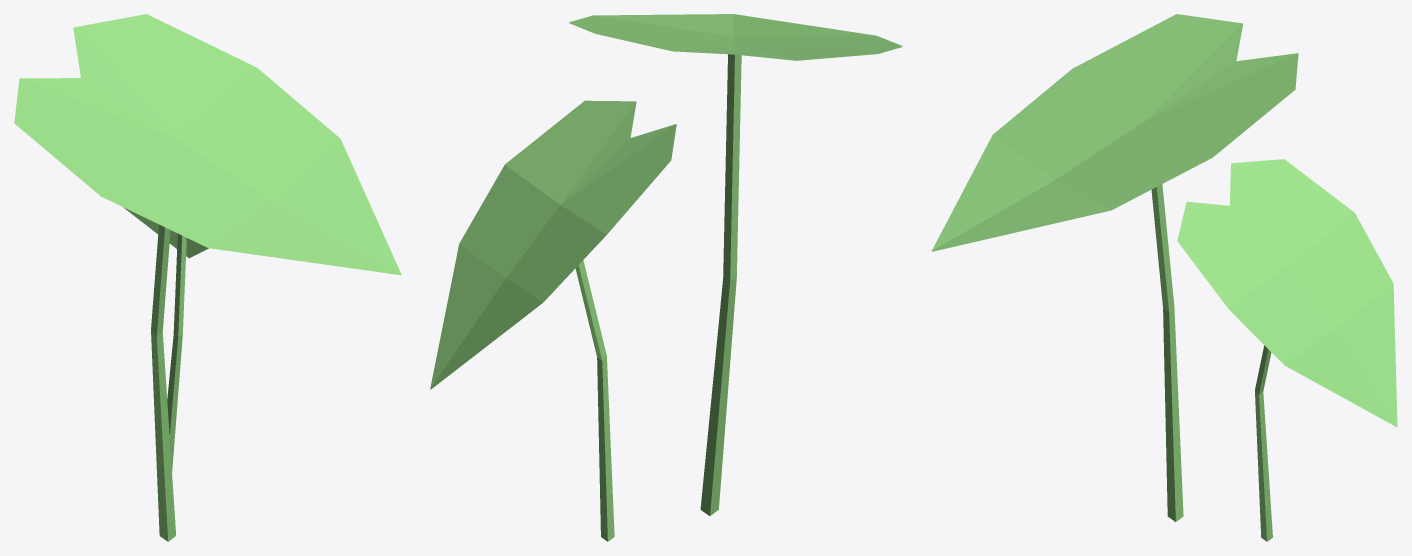
The model's file is Plant_d_TwoS_06.fbx.
3 views of the same model, side by side, from view 1: azimuth 30°, elevation 25°; view 2: azimuth 150°, elevation 25°; view 3: azimuth 270°, elevation 25° (orthographic). The views are drawn at different scales.
Parts seen in each view (by area): view 1: Plant_d_TwoS_06; view 2: Plant_d_TwoS_06; view 3: Plant_d_TwoS_06.
Boxes of the visible parts, bbox=[...] form: Plant_d_TwoS_06: bbox=[14, 14, 401, 541]; Plant_d_TwoS_06: bbox=[430, 14, 902, 541]; Plant_d_TwoS_06: bbox=[931, 14, 1397, 541].
Bounding box in the file's own units: 52.26 × 72.94 × 68.31.
